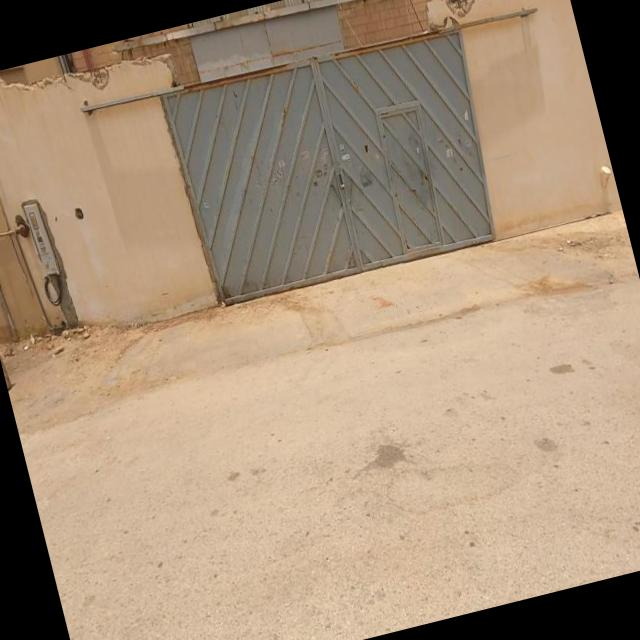debris: (0, 294, 69, 389)
